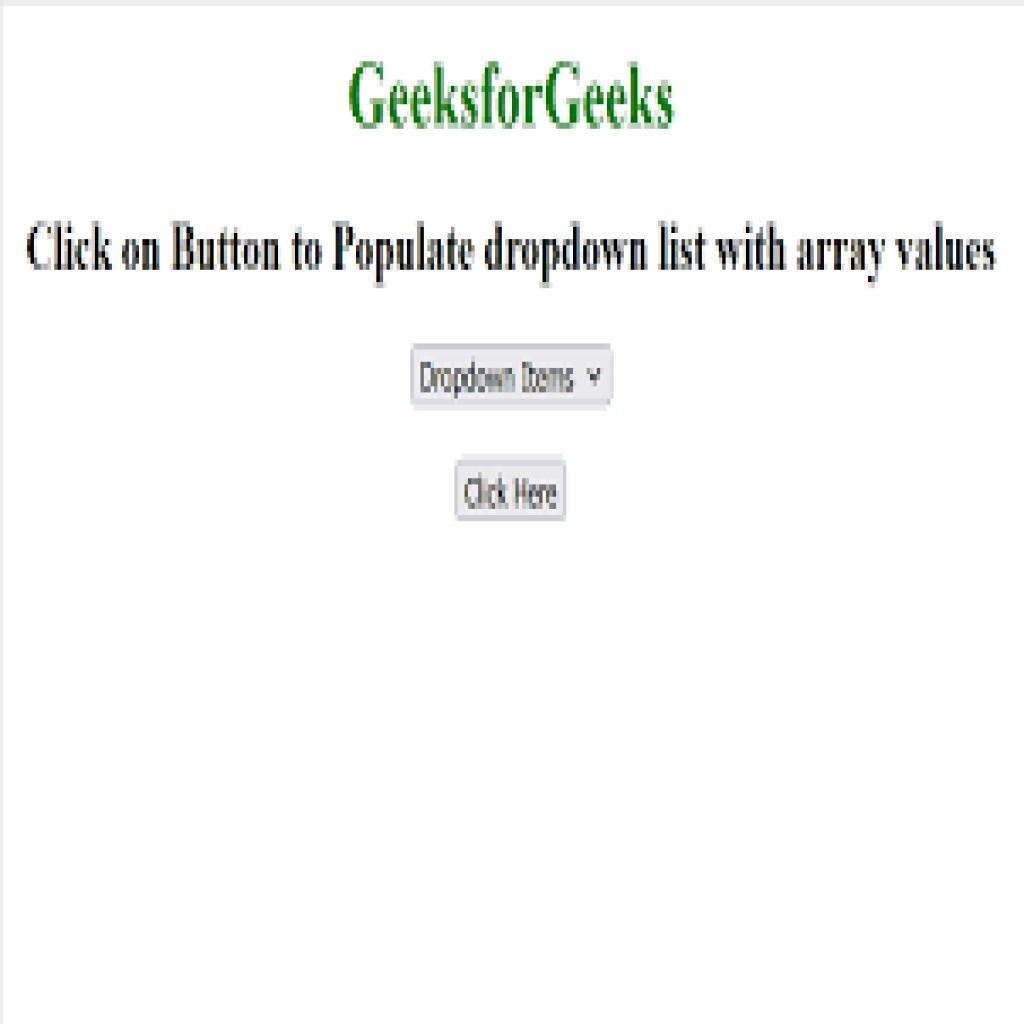button: (455, 458, 568, 521)
dropdown: (411, 346, 616, 411)
